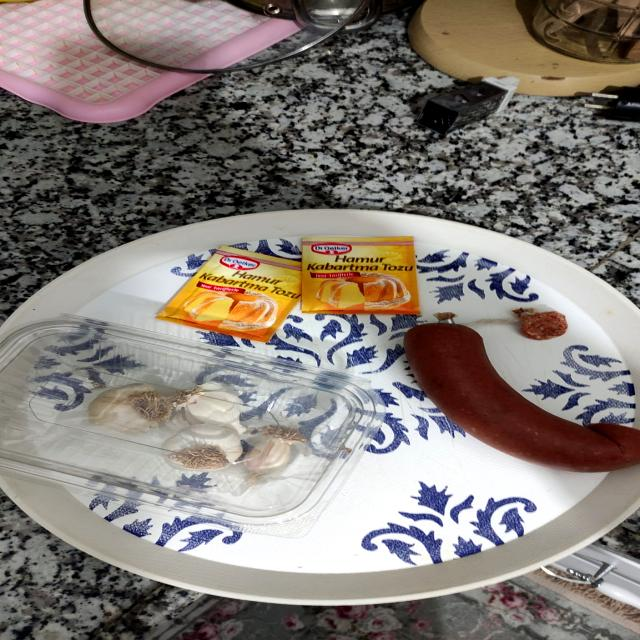garlic: (87, 381, 172, 431)
sausage: (396, 310, 640, 471)
